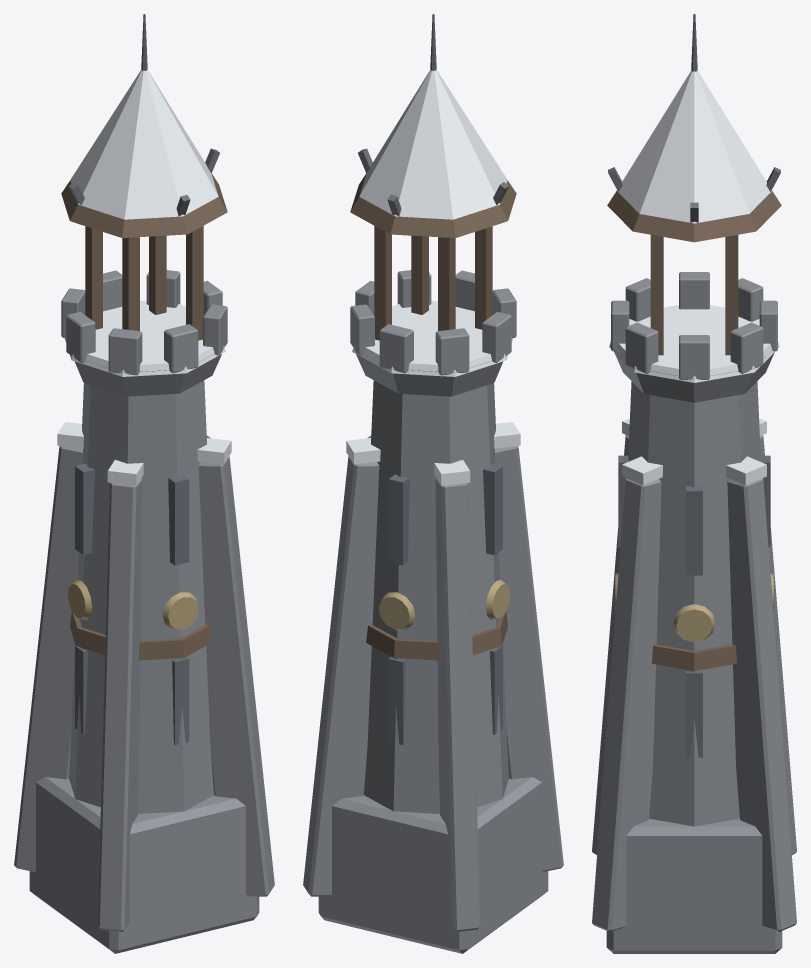
The model's file is cathedral_spire.glb.
3 renders of one model, left to right at view 1: azimuth 30°, elevation 25°; view 2: azimuth 150°, elevation 25°; view 3: azimuth 270°, elevation 25°, orthographic.
Visible parts, largest first — view 1: SM_Env_CathedralSpire_01; view 2: SM_Env_CathedralSpire_01; view 3: SM_Env_CathedralSpire_01.
Part boxes in pixels (x1,y1,x2,y2): SM_Env_CathedralSpire_01: (14, 14, 274, 953); SM_Env_CathedralSpire_01: (303, 14, 563, 953); SM_Env_CathedralSpire_01: (592, 14, 796, 953).
Bounding box in the file's own units: 4.08 × 19.9 × 4.08.
